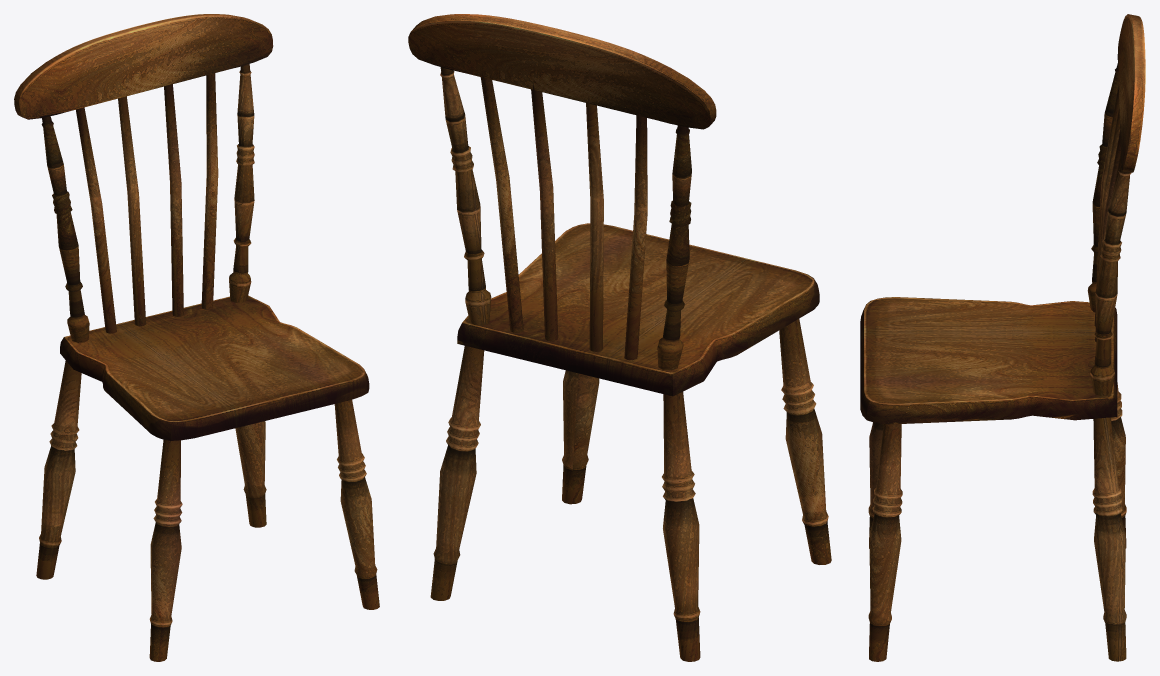
File: BGMD_Chair.fbx
3 renders of one model, left to right at view 1: azimuth 30°, elevation 25°; view 2: azimuth 150°, elevation 25°; view 3: azimuth 270°, elevation 25°, orthographic. The views are drawn at different scales.
Visible parts, largest first — view 1: BGMD_Chair; view 2: BGMD_Chair; view 3: BGMD_Chair.
Boxes of the visible parts, bbox=[...] form: BGMD_Chair: bbox=[14, 14, 379, 661]; BGMD_Chair: bbox=[408, 14, 831, 661]; BGMD_Chair: bbox=[860, 14, 1145, 661].
Bounding box in the file's own units: 36.16 × 69.85 × 32.81.
